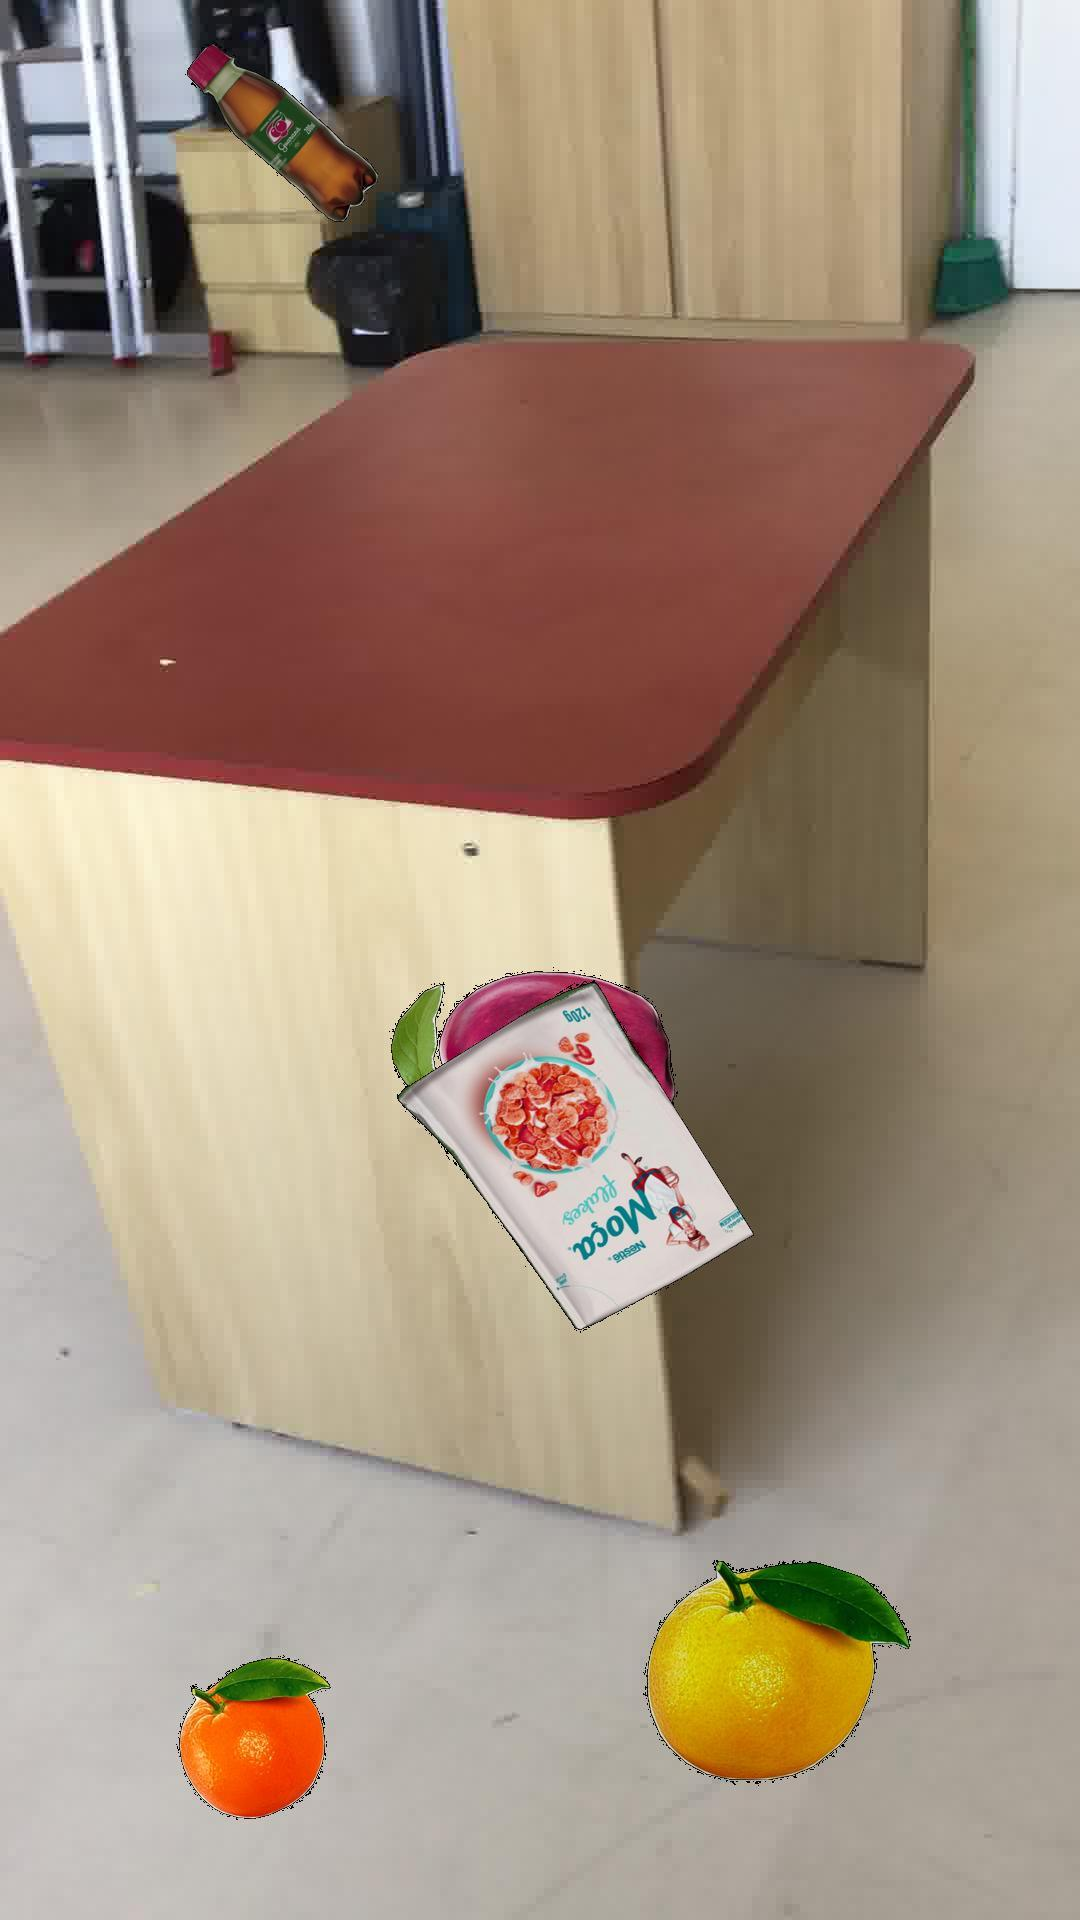apple: (389, 969, 674, 1104)
corn flakes: (396, 978, 753, 1328)
guarana: (186, 41, 377, 220)
orange: (641, 1559, 910, 1779), (177, 1655, 330, 1818)
